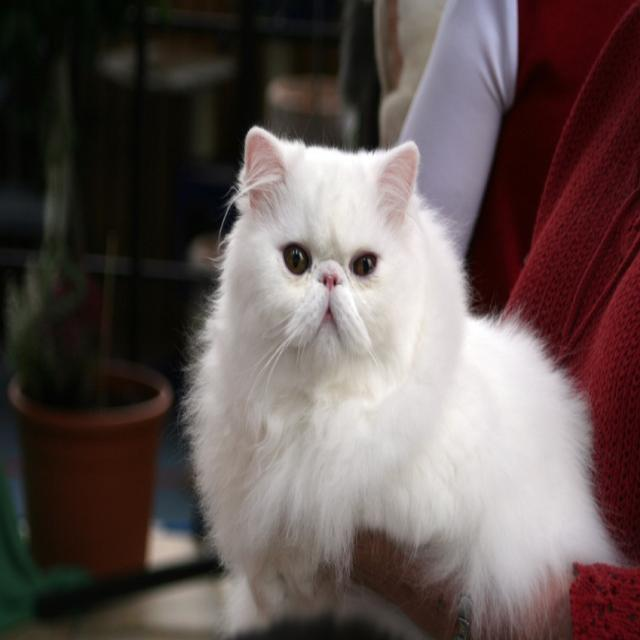Persian: (228, 121, 428, 385)
